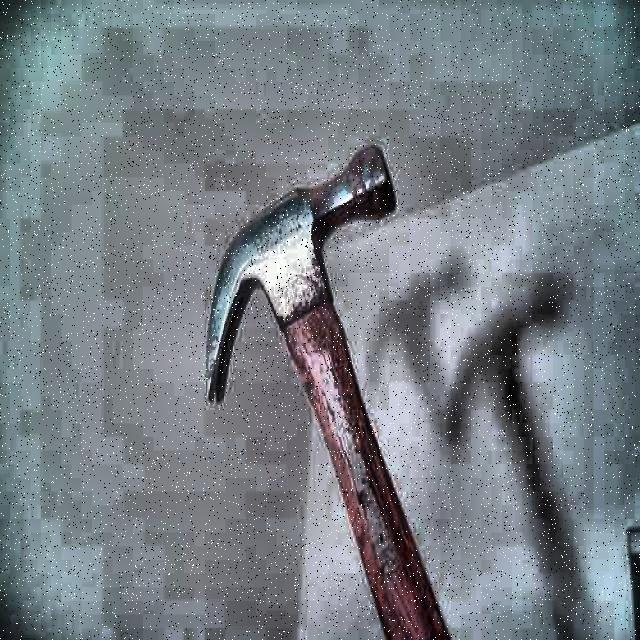hammer: (205, 143, 447, 640)
